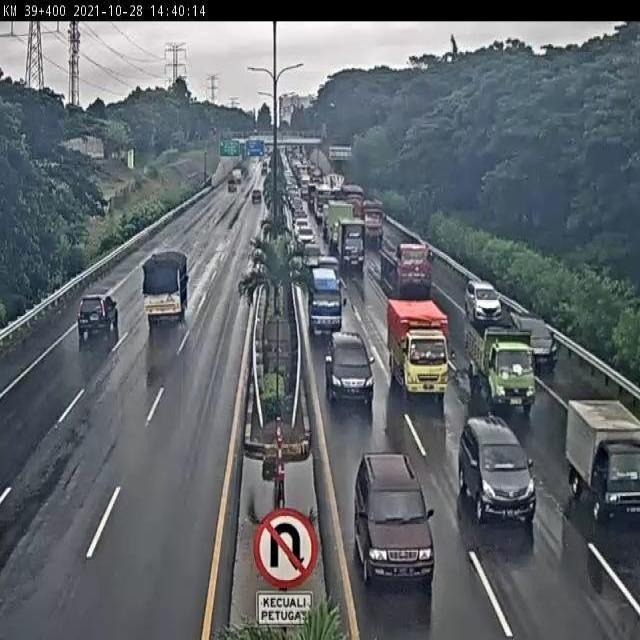Car: (352, 451, 436, 586), (458, 414, 536, 522), (324, 331, 375, 410), (306, 263, 344, 337), (77, 292, 119, 347), (465, 278, 503, 327), (301, 242, 322, 271), (309, 182, 326, 212), (296, 222, 315, 248), (290, 196, 306, 222), (320, 202, 332, 233), (284, 180, 296, 197), (228, 176, 238, 192), (252, 188, 262, 204), (232, 169, 242, 184), (261, 161, 268, 175)
Truck: (566, 401, 638, 524), (385, 298, 451, 402), (465, 320, 537, 415), (141, 252, 189, 327), (378, 240, 434, 300), (334, 218, 366, 276), (361, 200, 385, 248)
